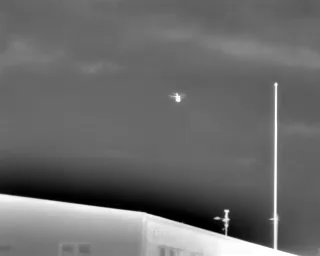HELICOPTER: (166, 89, 190, 106)
